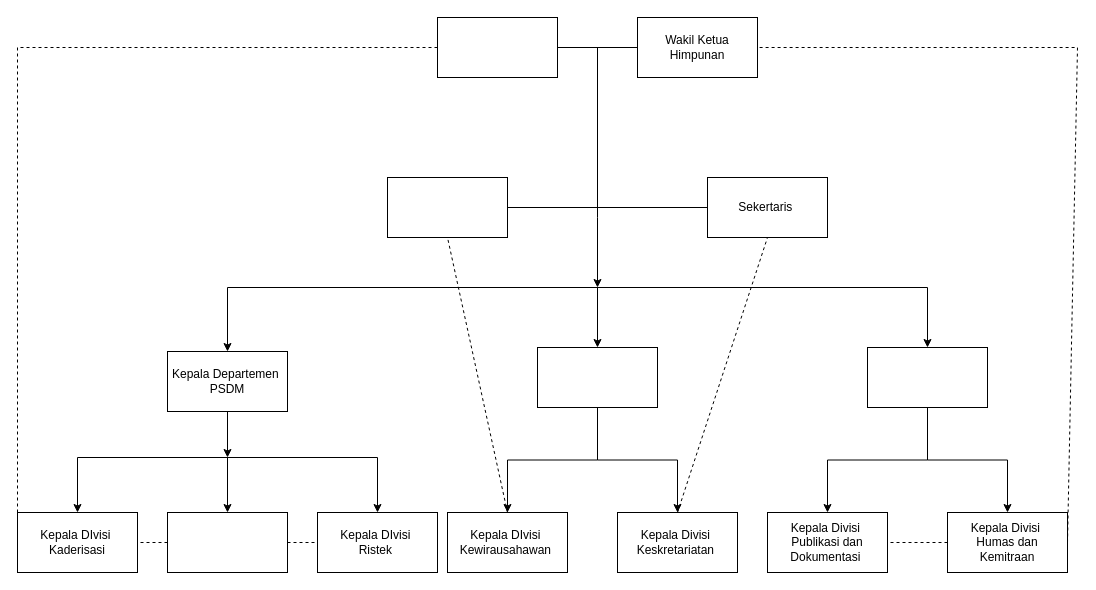
Image size: 1096x590. Some labels were removed from this diagram. Here are the shapes that lost their labels. From the top down, the centre of each, then its label:
point 497,47: Ketua Himpunan
point 447,207: Bendahara
point 597,377: Kepala Departemen ADKWU
point 927,377: Kepala Departemen MEDINFO
point 227,542: Kepala Divisi Kompetensi
